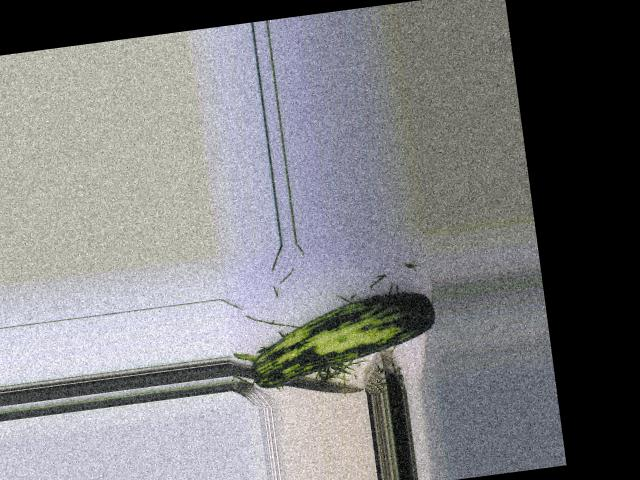cucumber: (243, 288, 441, 390)
